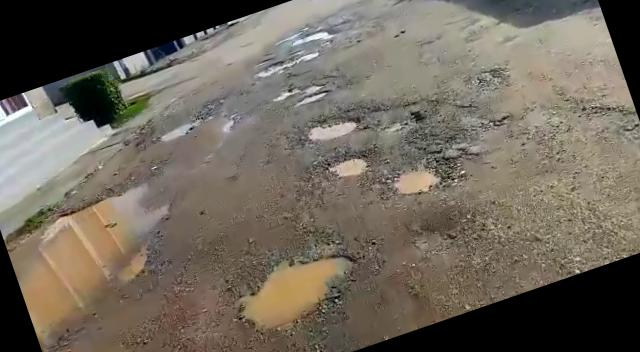pothole: (0, 172, 202, 349), (222, 232, 376, 344), (296, 104, 366, 150), (388, 155, 451, 202), (320, 145, 378, 185), (254, 46, 320, 80), (156, 118, 198, 142), (292, 87, 332, 109), (298, 24, 334, 46)
